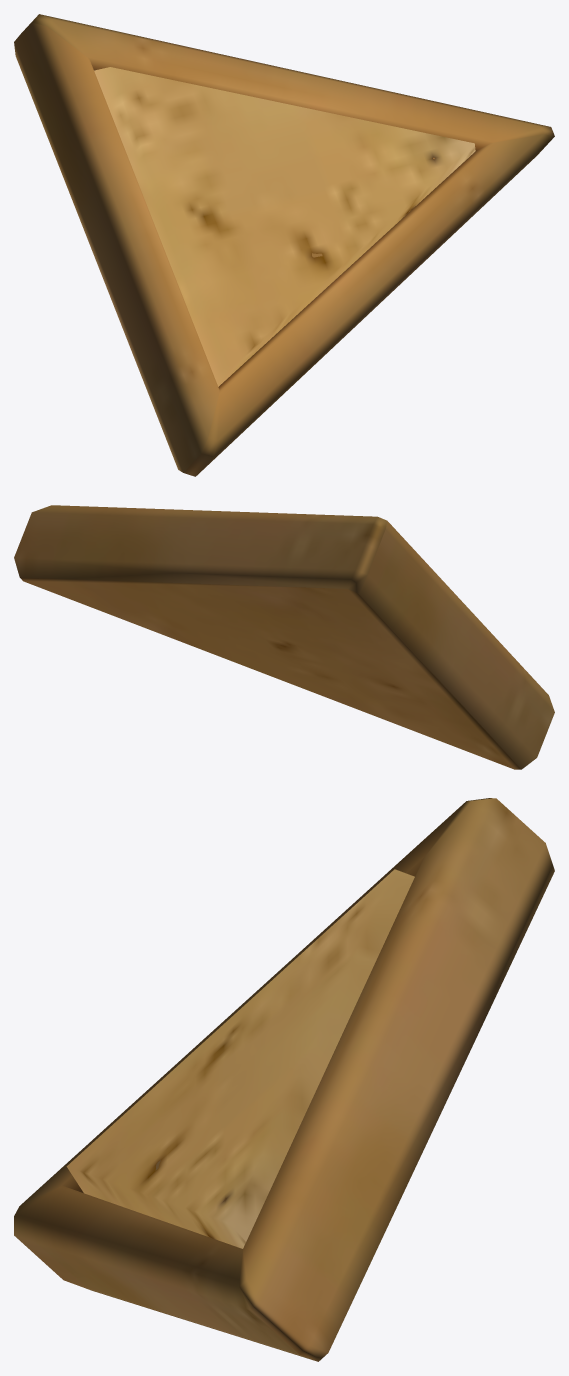
3 views of the same model, one above another, from view 1: azimuth 30°, elevation 25°; view 2: azimuth 150°, elevation 25°; view 3: azimuth 270°, elevation 25° (orthographic). The views are drawn at different scales.
Visible parts, largest first — view 1: SM_Vault_Mirror_Button_Plinth_Arrow_Right_LOD0; view 2: SM_Vault_Mirror_Button_Plinth_Arrow_Right_LOD0; view 3: SM_Vault_Mirror_Button_Plinth_Arrow_Right_LOD0.
Part boxes in pixels (left/top/right/bottom): SM_Vault_Mirror_Button_Plinth_Arrow_Right_LOD0: left=14, top=14, right=554, bottom=476; SM_Vault_Mirror_Button_Plinth_Arrow_Right_LOD0: left=14, top=505, right=554, bottom=769; SM_Vault_Mirror_Button_Plinth_Arrow_Right_LOD0: left=14, top=798, right=554, bottom=1361.
Size of the model in its own units: 0.2 by 0.1548 by 0.1551.
Materials: 2 (2 with a texture image).
